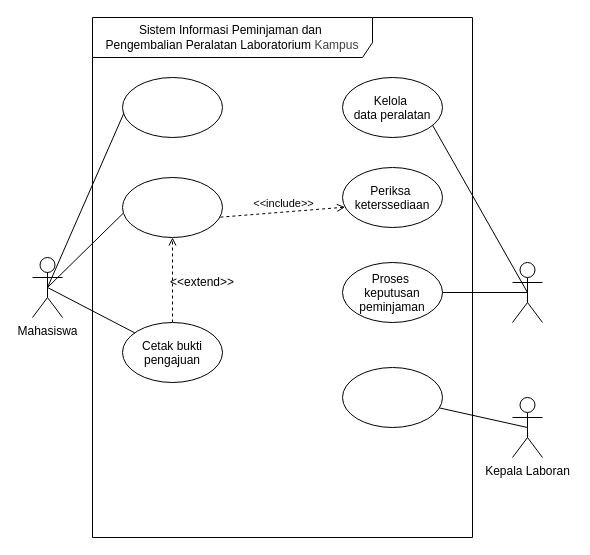
This 590x555 diagram has some shape labels left out. Here are the shapes that lost their labels. From the top down, the centre of each, then its label:
[172,107]: Lihat ketersediaan peralatan
[172,207]: Ajukan peminjaman
[527,292]: Petugas Laboran
[392,397]: Lihat laporan peminjaman
